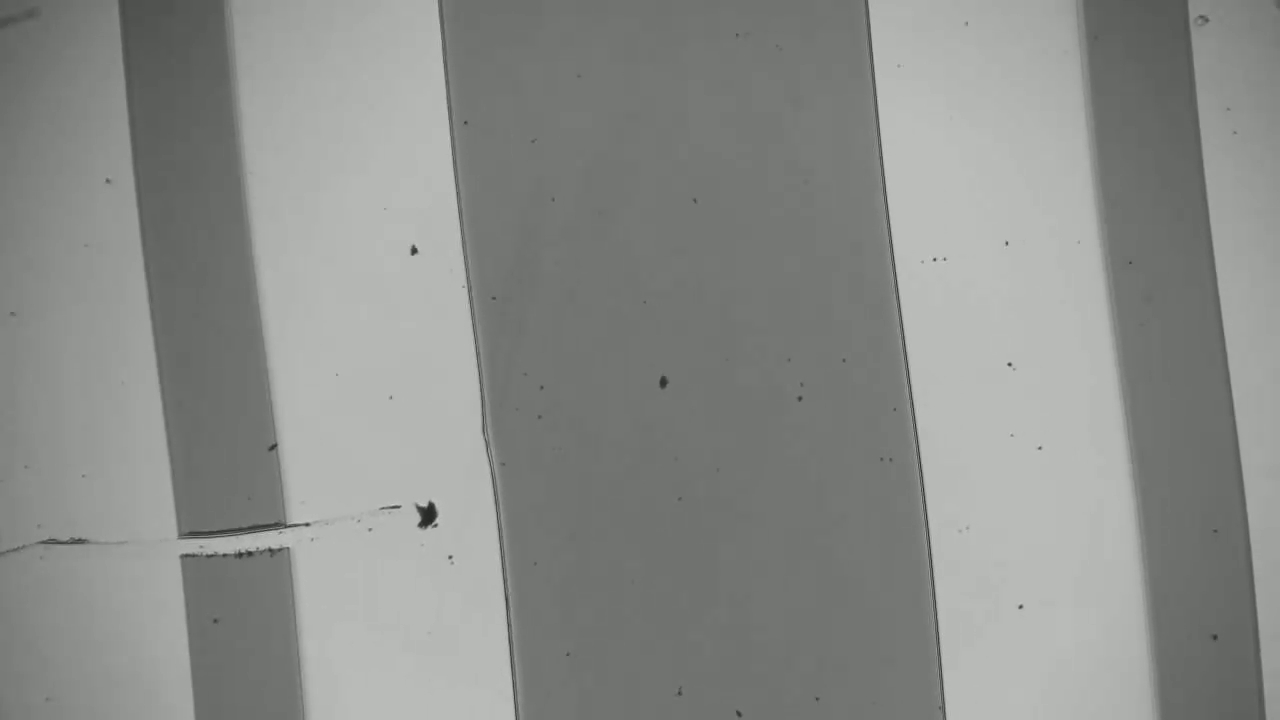Short_circuit: (154, 517, 322, 571)
